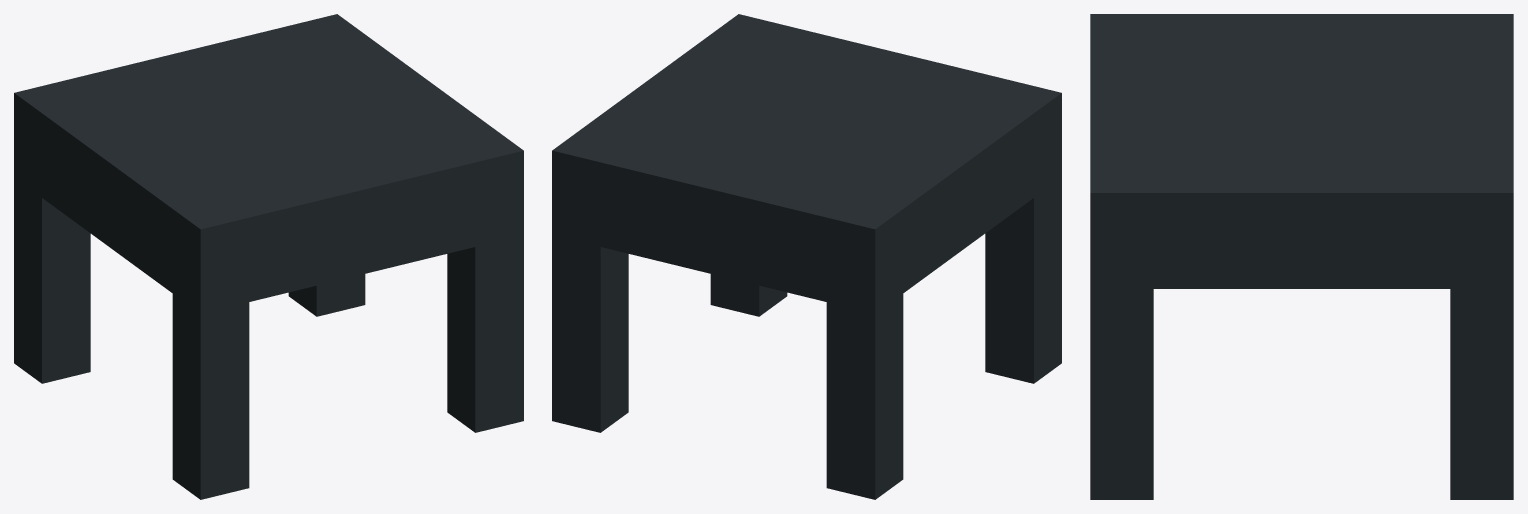
File: small_table.fbx
The picture shows the model from 3 angles, left to right: view 1: azimuth 30°, elevation 25°; view 2: azimuth 150°, elevation 25°; view 3: azimuth 270°, elevation 25°; orthographic projection. The views are drawn at different scales.
Visible parts, largest first — view 1: Cube; view 2: Cube; view 3: Cube.
Boxes of the visible parts, x1,y1,x2,y2 form: Cube: (14,14,523,499); Cube: (552,14,1061,499); Cube: (1090,14,1513,499).
Bounding box in the file's own units: 200 × 160 × 200.
